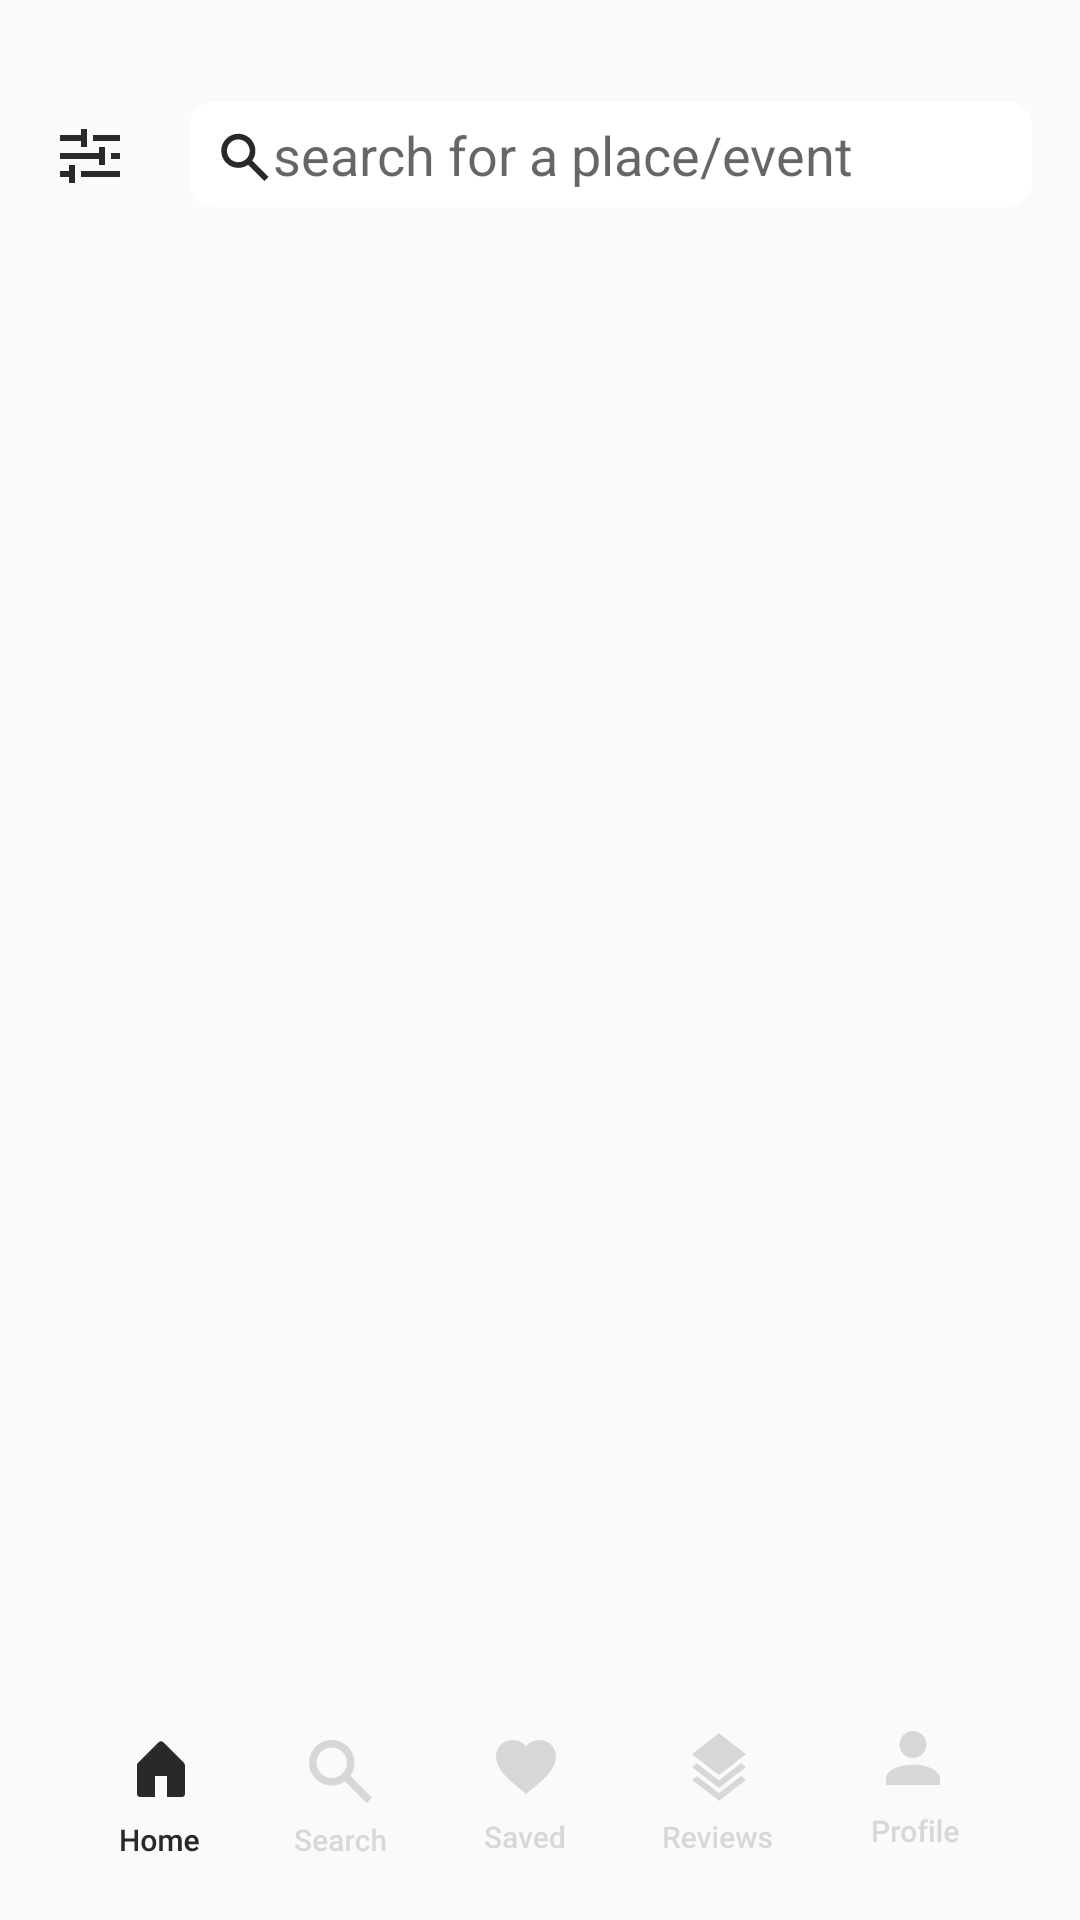

Screen size 1080 × 1920. Icon name, then its box in pixels as detection(x1, y1, x2, y2):
slider: detection(60, 129, 120, 183)
